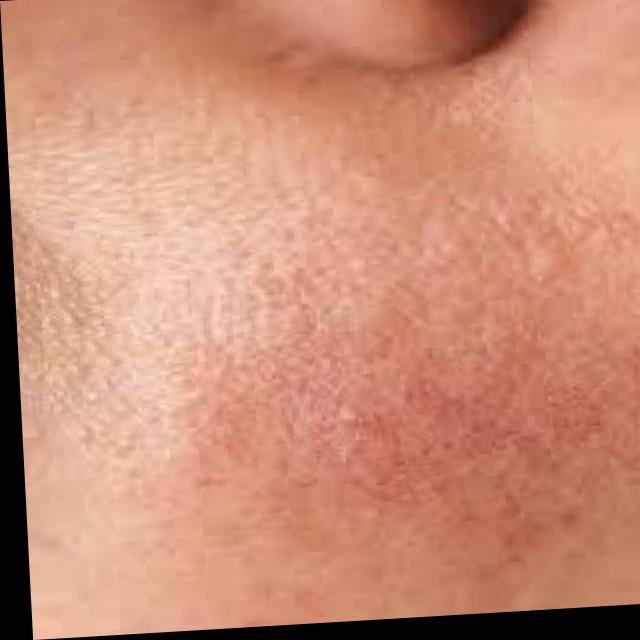Rosacea: (232, 284, 571, 609)
